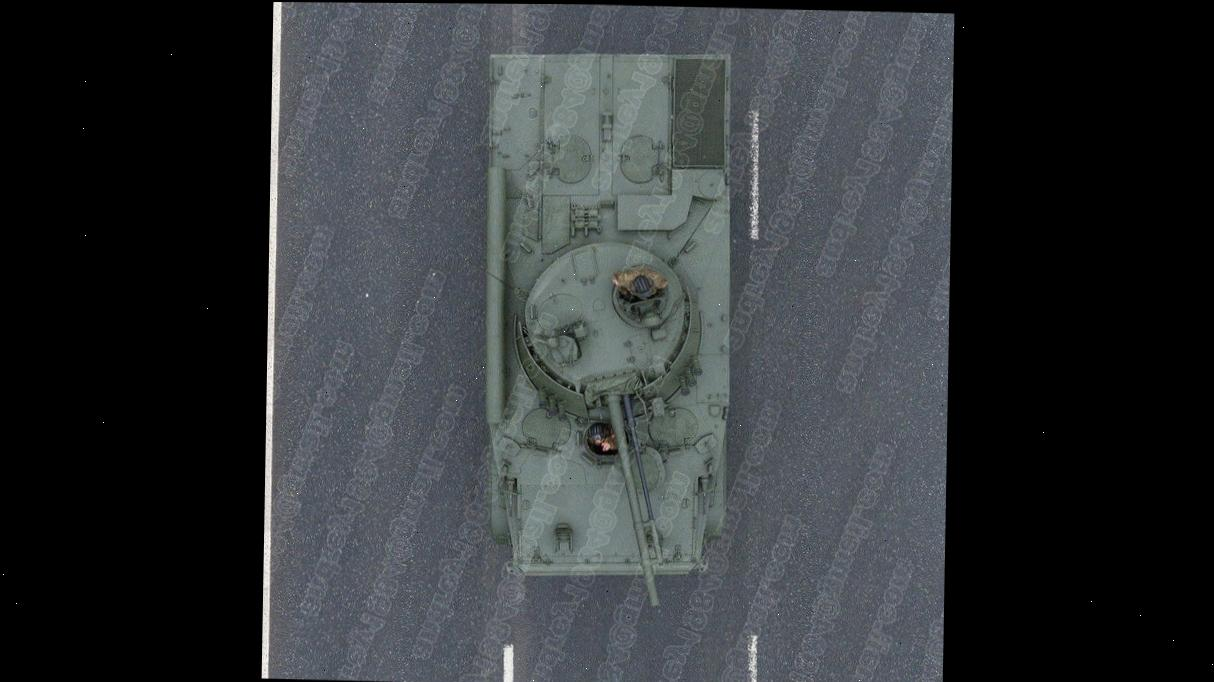armored_car: (475, 41, 738, 607)
